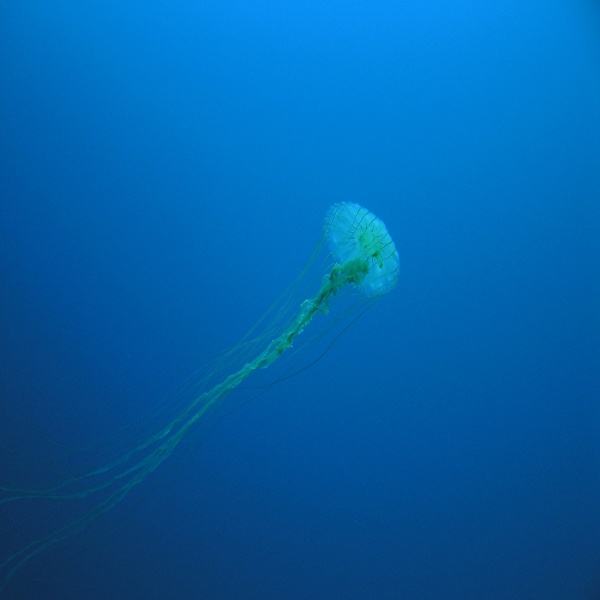Jellyfish: (0, 200, 400, 594)
